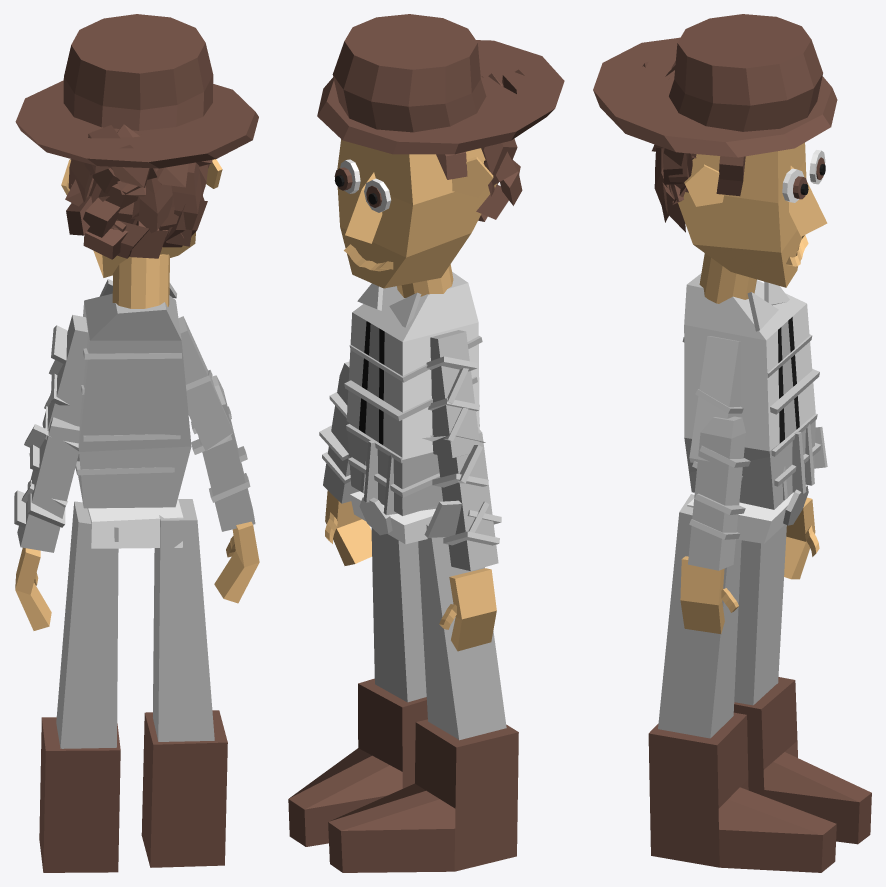
3 renders of one model, left to right at view 1: azimuth 30°, elevation 25°; view 2: azimuth 150°, elevation 25°; view 3: azimuth 270°, elevation 25°, orthographic.
Visible parts, largest first — view 1: group1100987078, group2091576910, group1128161676, group605014596, group1867668781, group1200911449, group303418554, group362720422, group1490962023, group624372728, group1515571867, group747898396 (+18 smaller); view 2: group303418554, group1100987078, group2091576910, group1190748567, group1200911449, group1867668781, group1128161676, group605014596, group1166245237, group362720422, group530524745, group1014815938 (+16 smaller); view 3: group1867668781, group1100987078, group2091576910, group1200911449, group1190748567, group605014596, group303418554, group1128161676, group624372728, group747898396, group1014815938, group1212896727 (+9 smaller).
Boxes of the visible parts, x1=… form: group1100987078: x1=78, y1=293, x2=191, y2=508; group2091576910: x1=63, y1=14, x2=213, y2=130; group1128161676: x1=56, y1=501, x2=118, y2=748; group605014596: x1=153, y1=499, x2=214, y2=741; group1867668781: x1=141, y1=710, x2=227, y2=867; group1200911449: x1=15, y1=80, x2=258, y2=168; group303418554: x1=39, y1=717, x2=120, y2=872; group362720422: x1=17, y1=417, x2=79, y2=552; group1490962023: x1=117, y1=162, x2=201, y2=246; group624372728: x1=198, y1=375, x2=255, y2=531; group1515571867: x1=87, y1=499, x2=183, y2=548; group747898396: x1=178, y1=316, x2=233, y2=450; group303418554: x1=328, y1=719, x2=518, y2=872; group1100987078: x1=346, y1=271, x2=479, y2=515; group2091576910: x1=332, y1=14, x2=486, y2=132; group1190748567: x1=337, y1=139, x2=497, y2=288; group1200911449: x1=317, y1=40, x2=564, y2=154; group1867668781: x1=288, y1=678, x2=427, y2=846; group1128161676: x1=418, y1=523, x2=506, y2=740; group605014596: x1=371, y1=528, x2=426, y2=702; group1166245237: x1=430, y1=330, x2=479, y2=457; group362720422: x1=437, y1=428, x2=498, y2=571; group530524745: x1=449, y1=568, x2=496, y2=651; group1014815938: x1=325, y1=490, x2=371, y2=565; group1867668781: x1=648, y1=712, x2=836, y2=872; group1100987078: x1=684, y1=273, x2=815, y2=509; group2091576910: x1=669, y1=14, x2=822, y2=131; group1200911449: x1=593, y1=37, x2=837, y2=157; group1190748567: x1=678, y1=142, x2=806, y2=287; group605014596: x1=658, y1=494, x2=741, y2=738; group303418554: x1=733, y1=677, x2=871, y2=844; group1128161676: x1=734, y1=524, x2=786, y2=705; group624372728: x1=688, y1=416, x2=745, y2=570; group747898396: x1=689, y1=336, x2=740, y2=462; group1014815938: x1=680, y1=556, x2=724, y2=633; group1212896727: x1=699, y1=253, x2=756, y2=303.
Bounding box in the file's own units: 0.2255 × 0.7705 × 0.2432.
